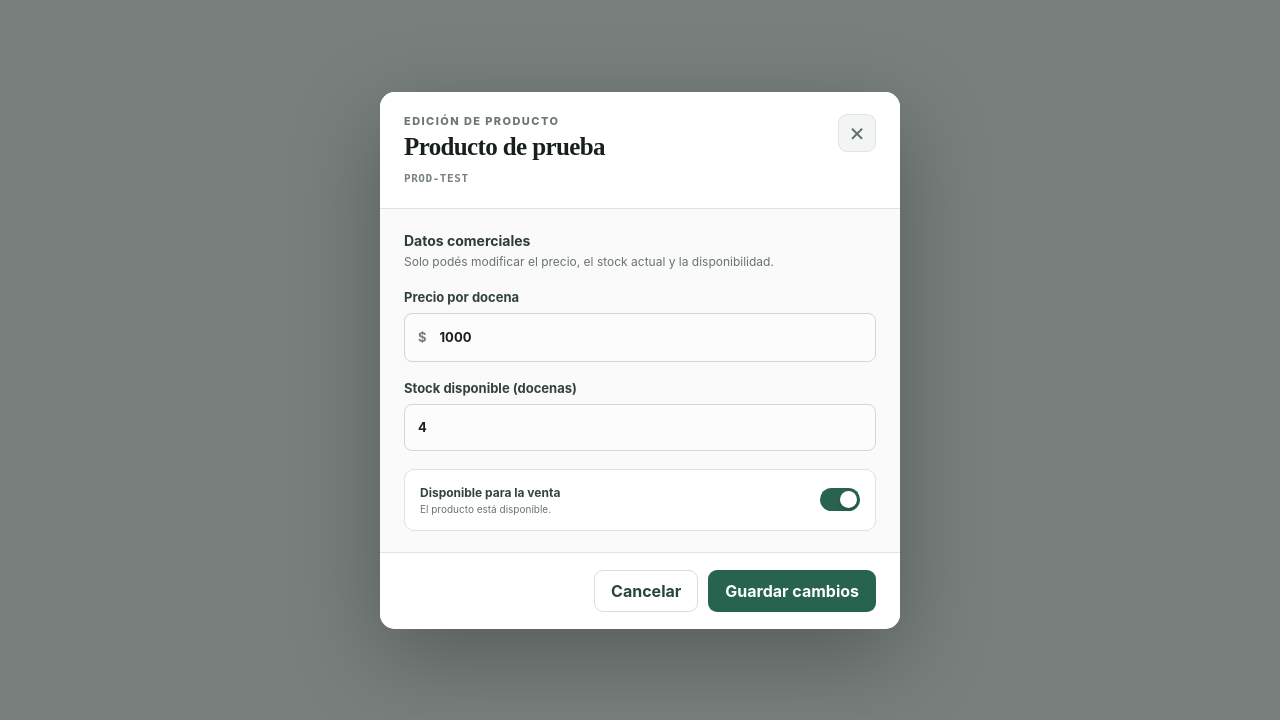
Scenario: ProductEditorModal › conserva el formulario y no simula éxito si Supabase falla
Step 1. Replace the text in the number field labelled "Precio por docena $" with "1250.5" → (651, 337), box 426,314 -> 875,360
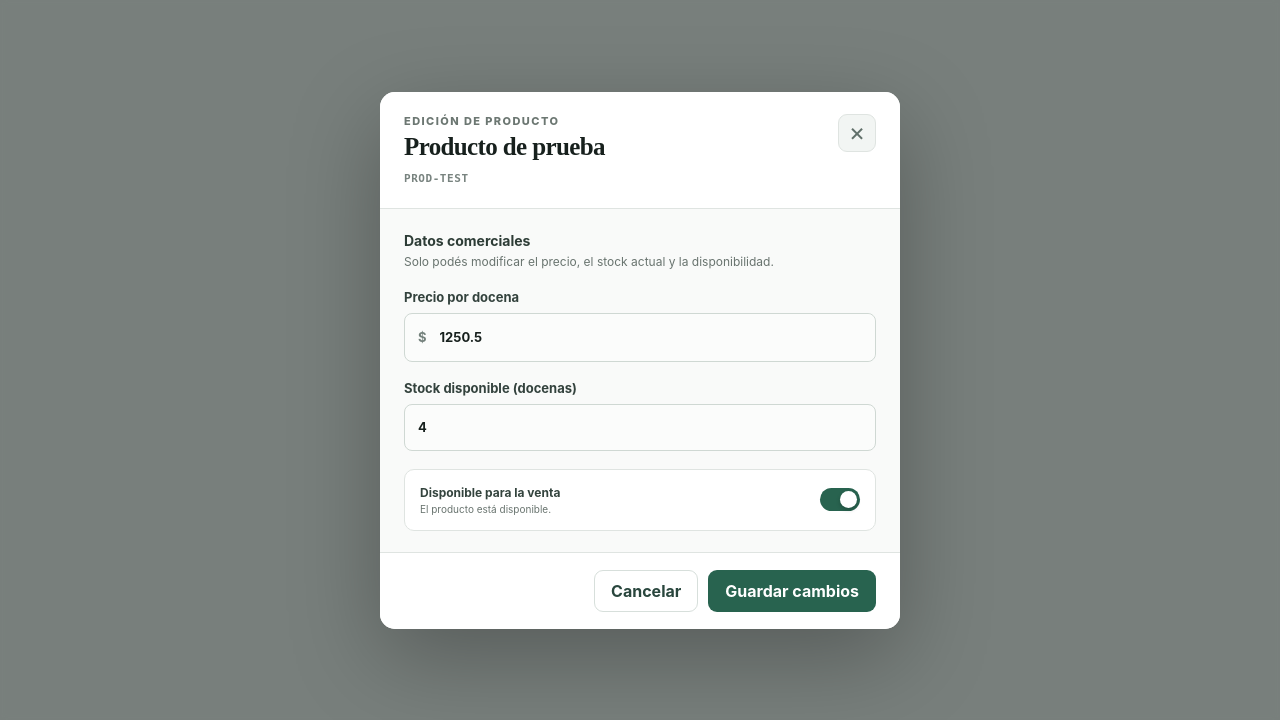
Step 2. Click the button "Guardar cambios" → (792, 590), box 708,570 -> 876,612
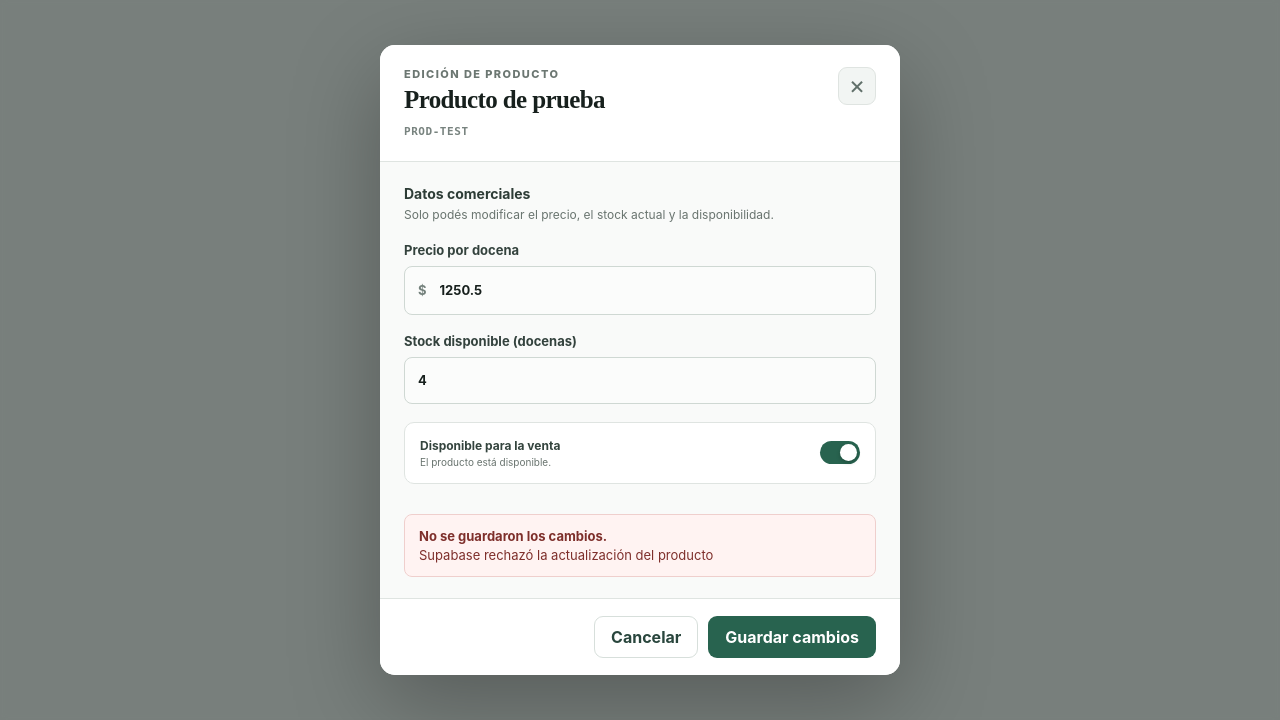
Check: the dialog is shown, box 380,45 -> 900,675
Check: the text "No se guardaron los cambios." is shown, box 419,528 -> 607,544
Check: the text "Supabase rechazó la actualización del producto" is shown, box 419,546 -> 713,562
